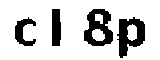8: (82, 6, 114, 48)
c: (11, 18, 40, 50)
l: (47, 3, 71, 53)
p: (115, 14, 148, 60)
